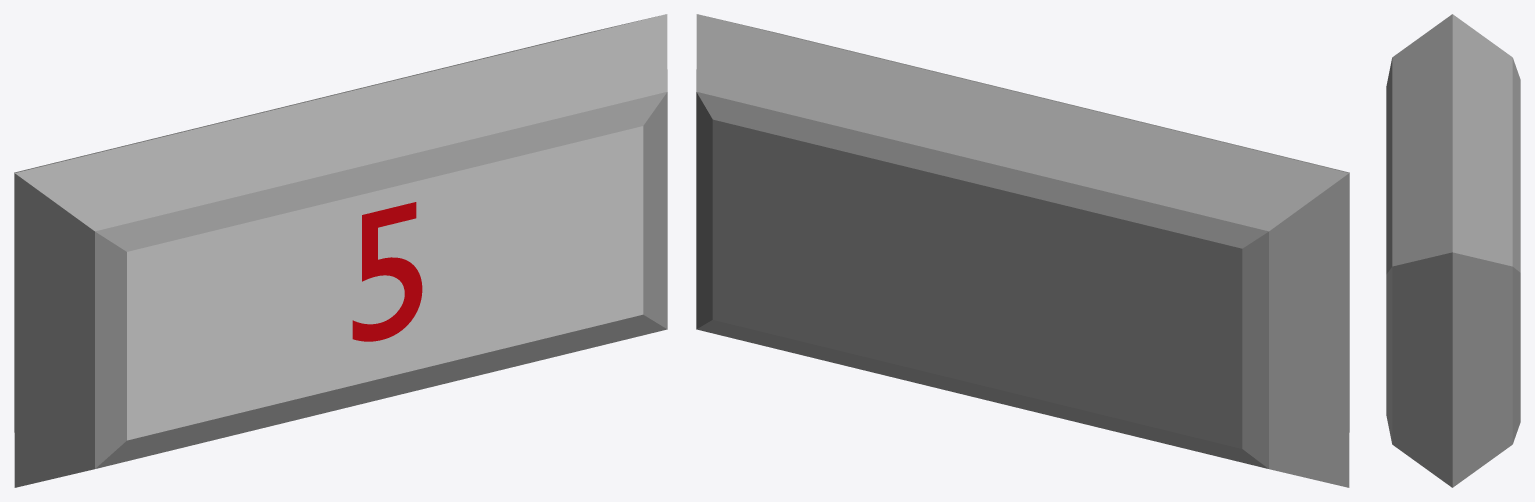
Rendered from number5.fbx.
3 views of the same model, side by side, from view 1: azimuth 30°, elevation 25°; view 2: azimuth 150°, elevation 25°; view 3: azimuth 270°, elevation 25° (orthographic). The views are drawn at different scales.
Visible parts, largest first — view 1: Cube, Text; view 2: Cube; view 3: Cube.
Part boxes in pixels (x1,y1,x2,y2): Cube: (14, 14, 667, 487); Text: (352, 202, 422, 341); Cube: (696, 14, 1349, 487); Cube: (1386, 14, 1520, 487).
Bounding box in the file's own units: 1735 × 800 × 437.
